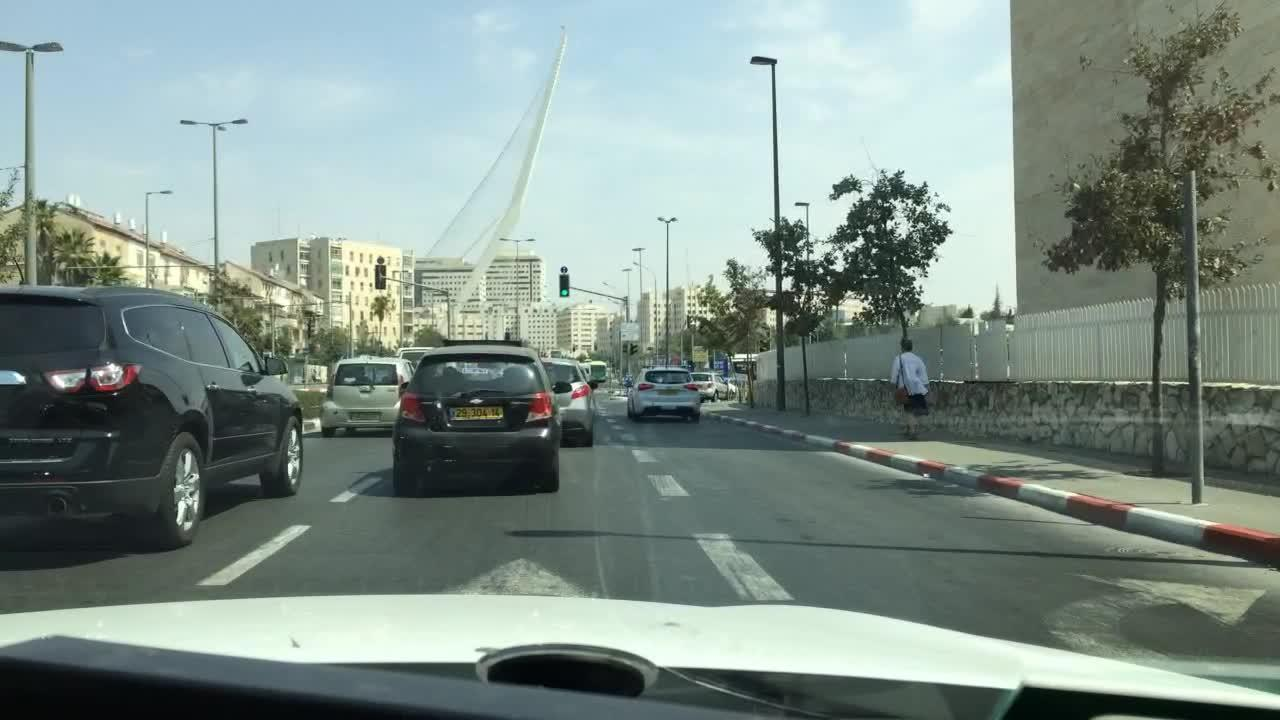chevrolet: (467, 395, 490, 411)
